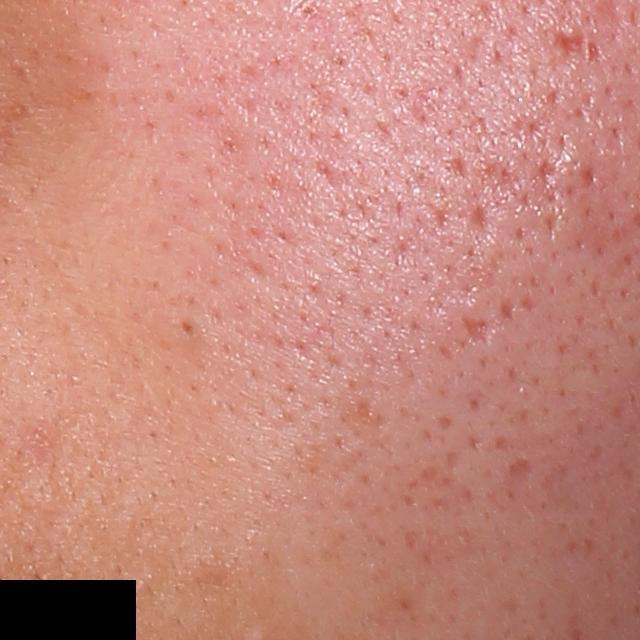atrophic_scar: (477, 157, 523, 204), (460, 314, 493, 348), (553, 31, 586, 60), (506, 457, 540, 484), (467, 203, 490, 238), (584, 35, 606, 68)
